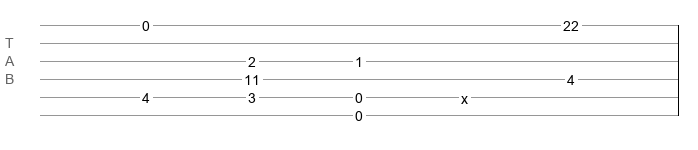0: (142, 18, 150, 28), (355, 90, 363, 100), (355, 108, 363, 118)
1: (355, 54, 363, 64)
11: (244, 72, 260, 82)
2: (248, 54, 256, 64)
22: (563, 18, 579, 28)
3: (248, 90, 256, 100)
4: (142, 90, 150, 100), (567, 72, 575, 82)
x: (461, 91, 468, 99)
